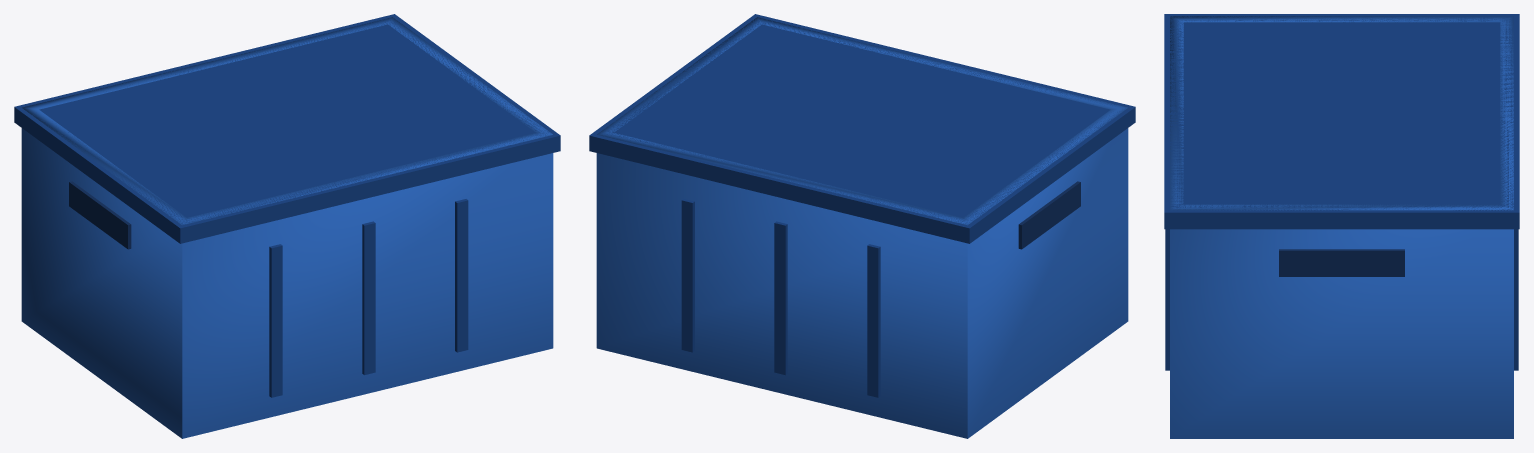
File: crate.glb
3 renders of one model, left to right at view 1: azimuth 30°, elevation 25°; view 2: azimuth 150°, elevation 25°; view 3: azimuth 270°, elevation 25°, orthographic. The views are drawn at different scales.
Parts seen in each view (by area): view 1: BODY; view 2: BODY; view 3: BODY.
Part boxes in pixels (box(x1,y1,x2,y2)): BODY: box(14, 14, 560, 438); BODY: box(589, 14, 1135, 438); BODY: box(1164, 14, 1519, 438).
Size of the model in its own units: 0.41 by 0.22 by 0.31.
